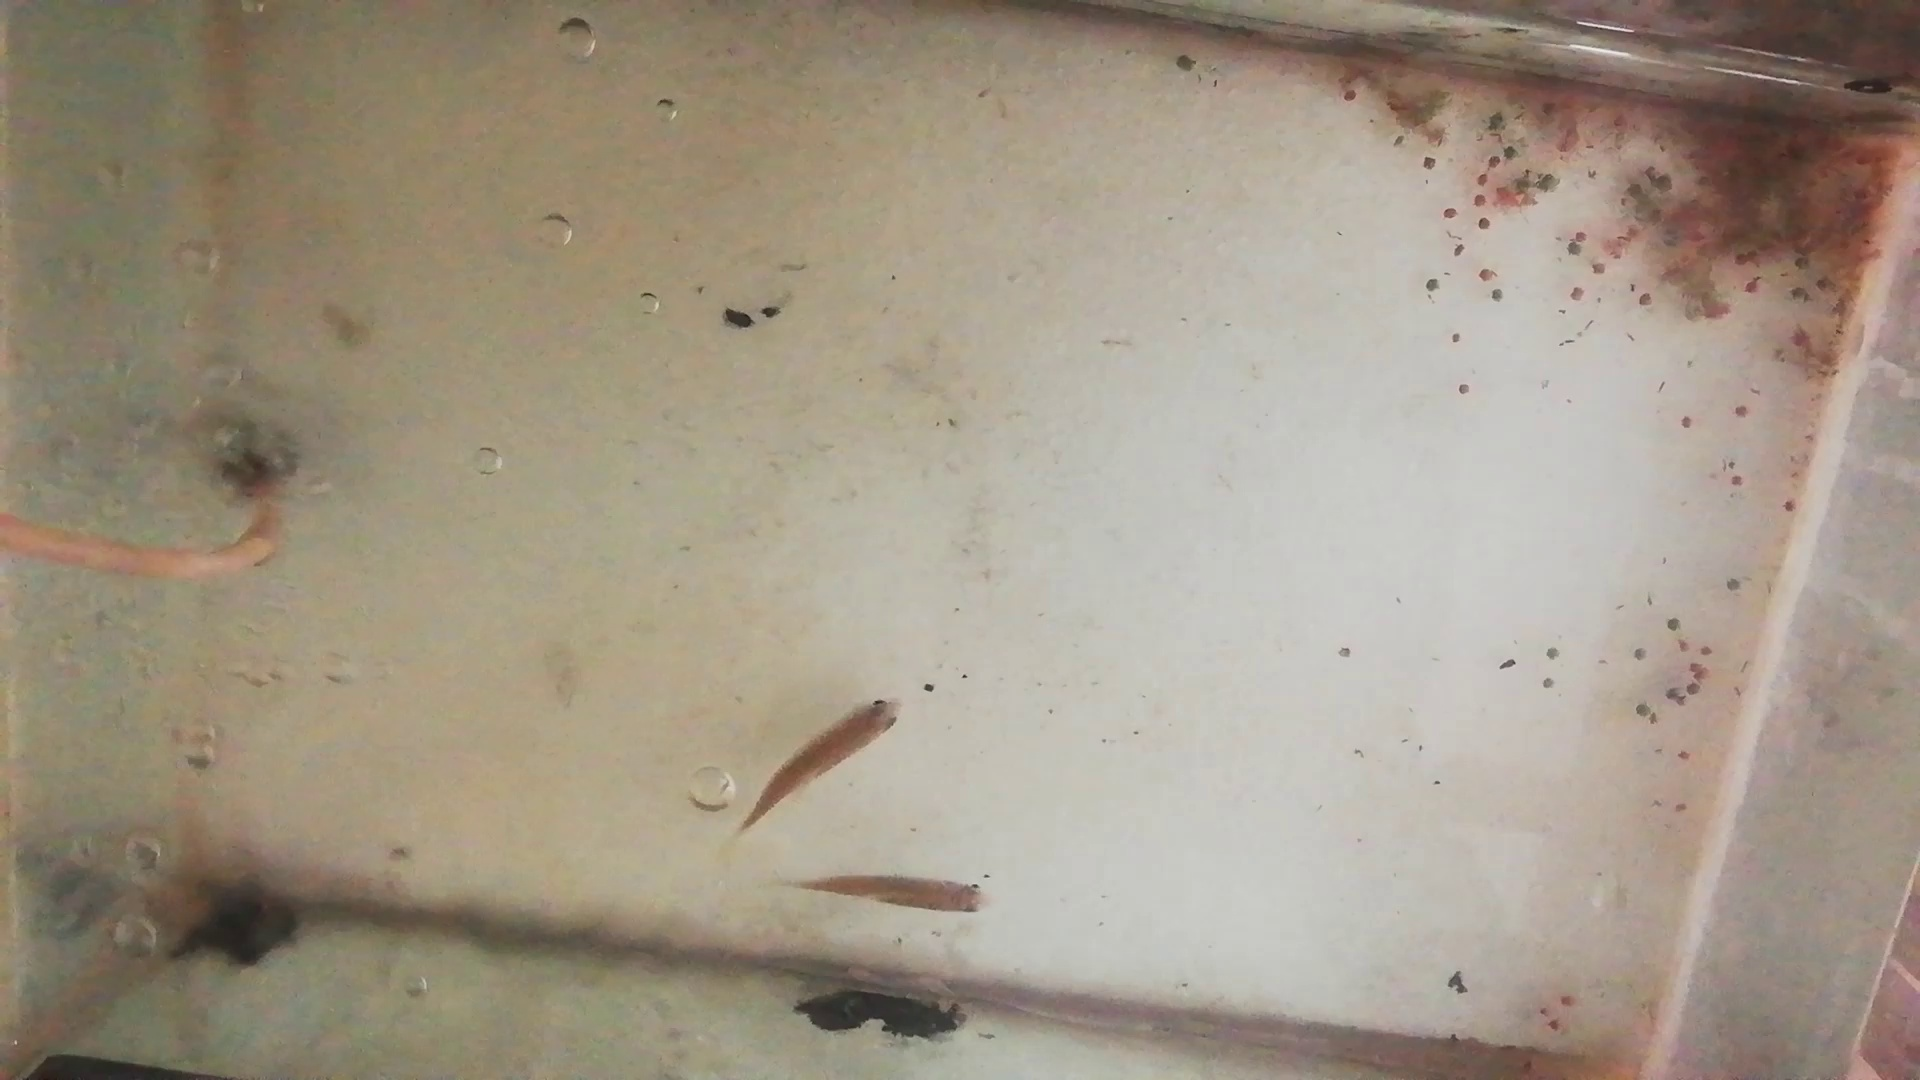fish: (736, 698, 905, 825), (789, 870, 990, 923)
